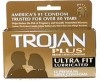grozi_101: (2, 0, 96, 78)
